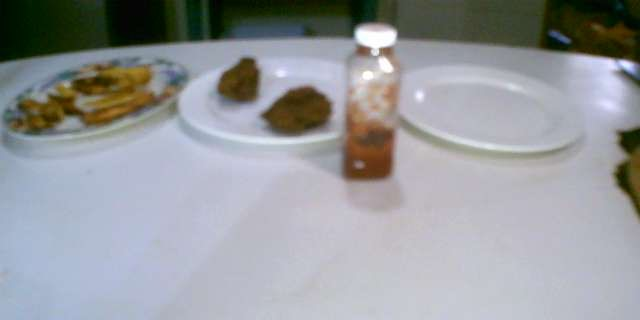chicken: (259, 82, 335, 139), (209, 51, 266, 107)
empty_plate: (399, 53, 592, 166)
ketchup_bottle: (339, 16, 405, 187)
potatoe_fries: (12, 58, 163, 134)
